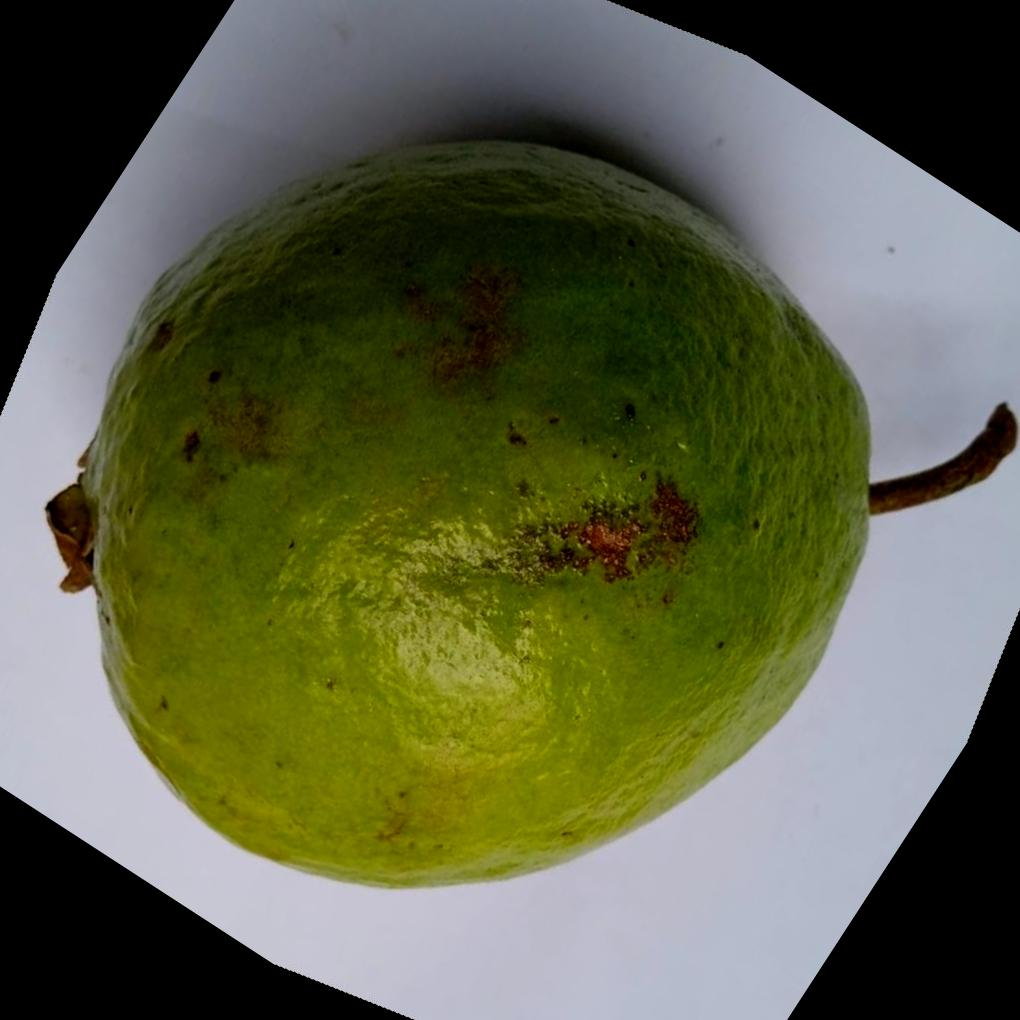FreshGuava: (41, 134, 940, 890)
